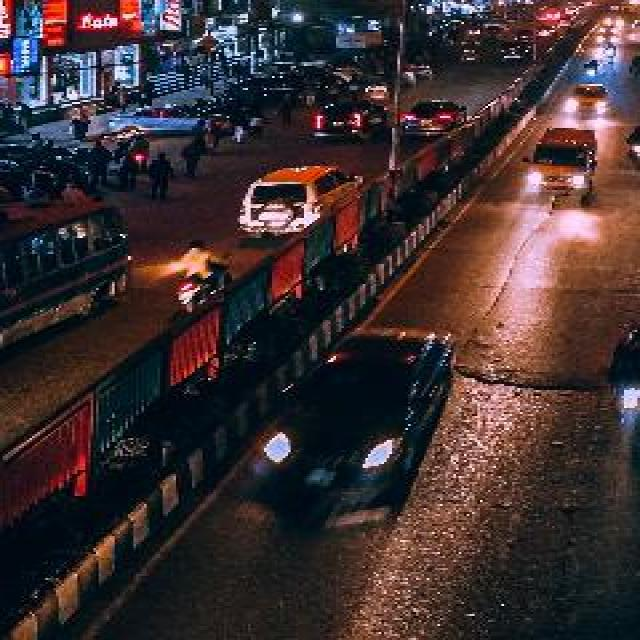bus: (0, 191, 132, 352)
car: (250, 323, 451, 506), (235, 164, 362, 233), (523, 126, 598, 203), (312, 99, 387, 141), (400, 98, 466, 139), (561, 82, 612, 118)
motorbike: (169, 239, 232, 317), (600, 324, 640, 446), (624, 124, 640, 164)
